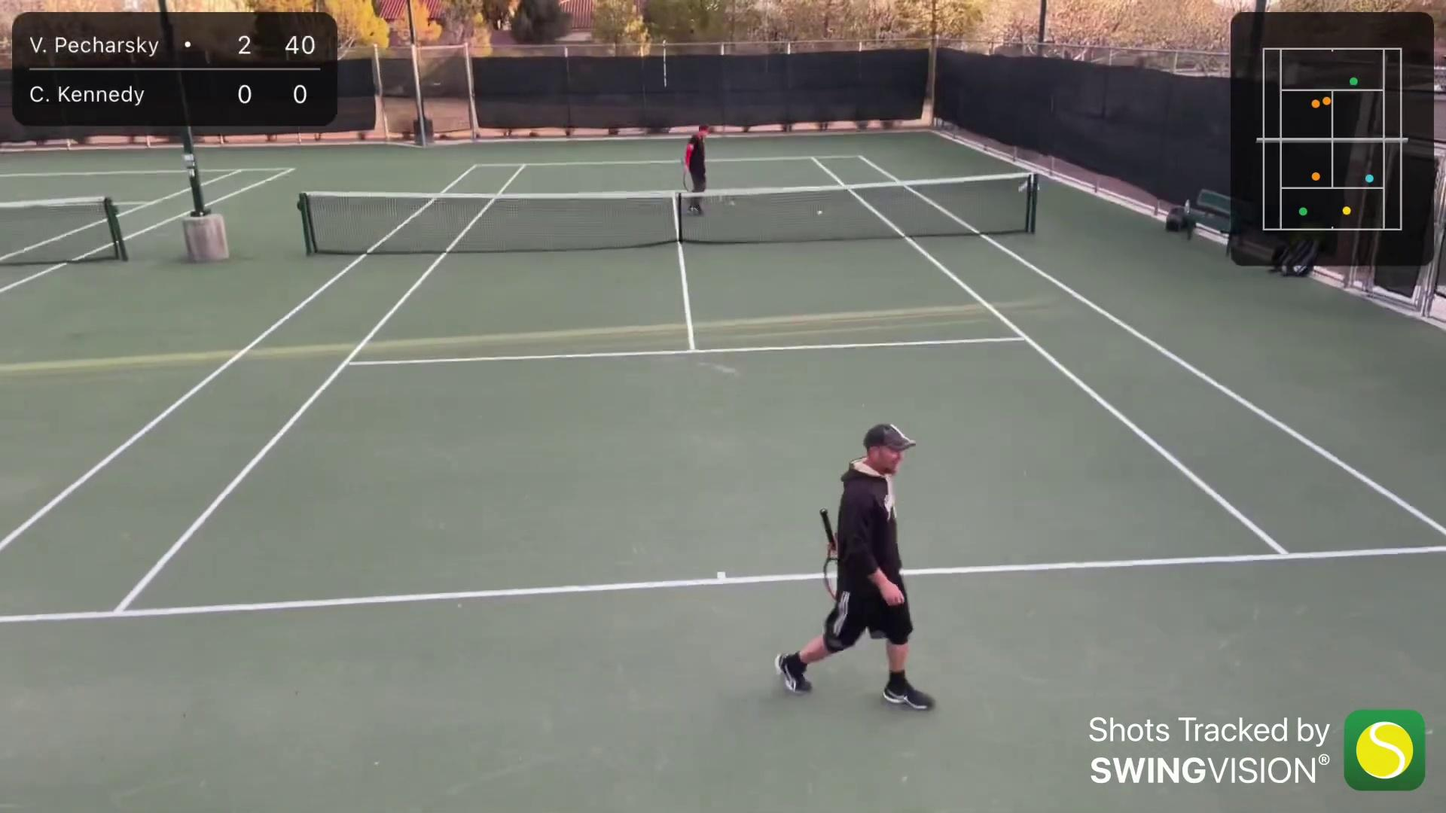ball: (158, 408, 172, 423), (815, 208, 824, 218)
